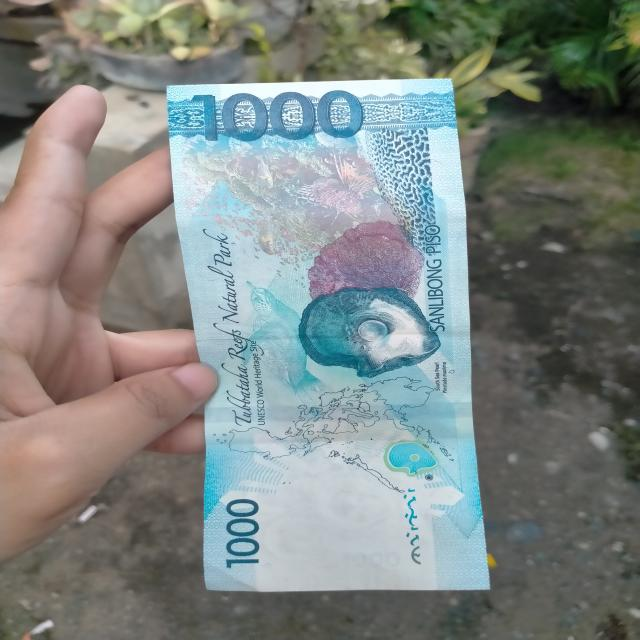see_through_mark: (400, 482, 427, 572)
value: (184, 90, 364, 143)
value_watermark: (343, 547, 402, 569)
watermark: (261, 471, 402, 557)
